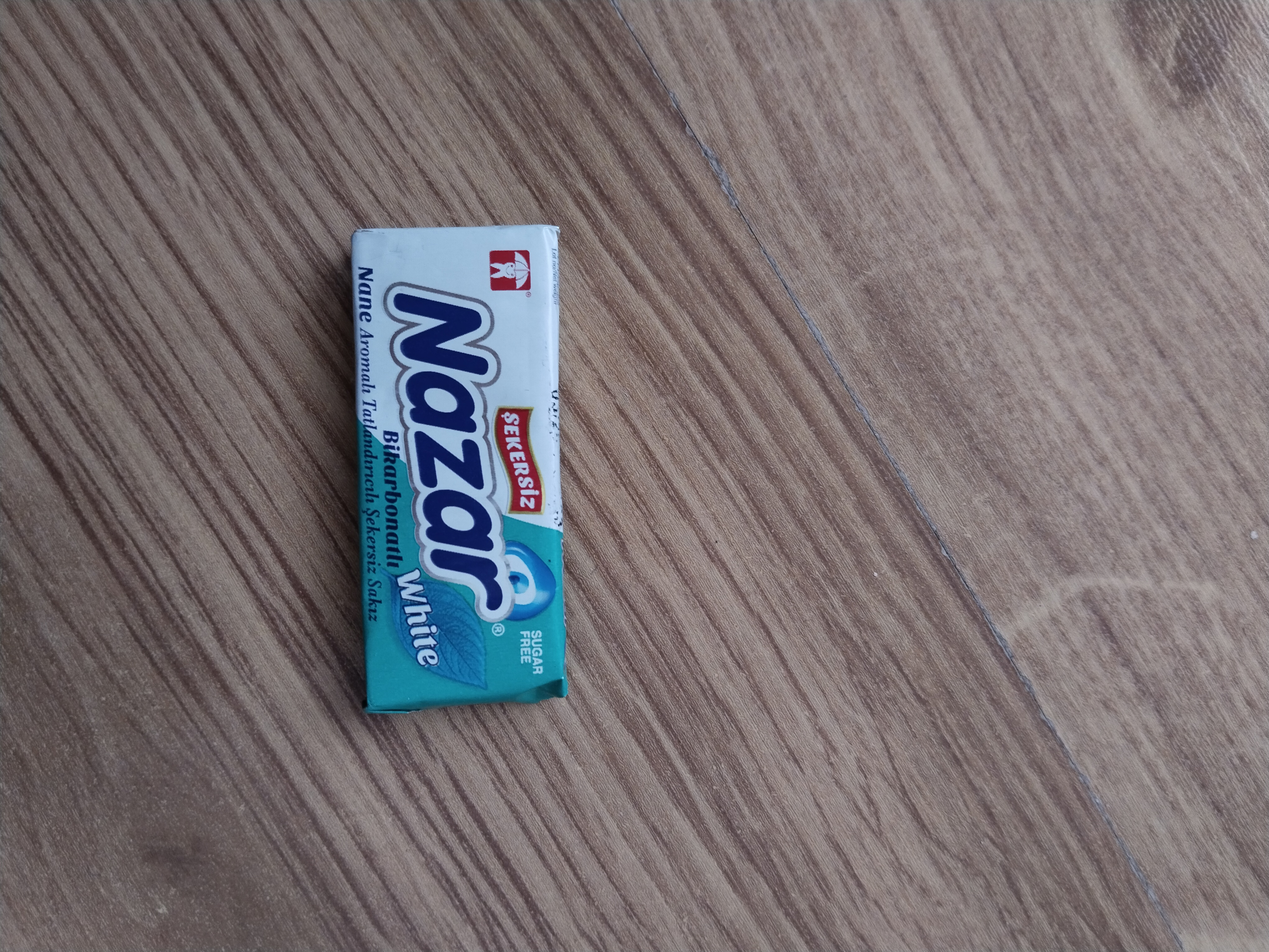nazar_naneli_sakiz: (352, 226, 566, 711)
